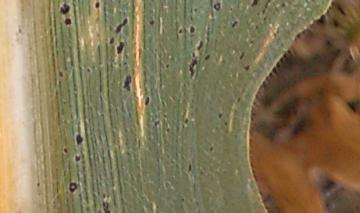tarspot: (114, 17, 129, 34), (187, 58, 198, 79), (58, 1, 73, 16), (122, 75, 132, 92), (261, 1, 272, 16), (100, 199, 111, 213), (115, 41, 125, 55), (67, 181, 78, 193), (74, 132, 84, 145), (196, 39, 203, 52), (212, 2, 222, 11), (152, 119, 161, 129), (15, 24, 23, 35), (186, 161, 192, 175), (61, 146, 70, 155), (63, 17, 72, 26), (230, 20, 239, 29), (279, 1, 288, 10), (73, 153, 81, 163), (57, 69, 65, 79), (241, 64, 251, 72), (238, 50, 245, 61), (203, 54, 211, 62), (108, 36, 115, 45), (250, 1, 259, 8), (235, 95, 242, 104), (93, 1, 100, 9), (147, 19, 155, 26), (84, 67, 91, 75), (183, 117, 190, 125), (164, 126, 171, 134), (179, 196, 186, 204), (255, 10, 262, 18), (189, 25, 195, 34), (144, 96, 149, 106), (192, 6, 199, 13), (216, 112, 223, 119), (161, 112, 168, 119), (116, 61, 123, 68), (122, 59, 128, 67), (35, 181, 41, 188), (177, 28, 183, 35), (164, 63, 170, 70), (208, 145, 214, 152), (254, 24, 260, 31), (248, 38, 254, 45), (101, 192, 106, 200), (191, 50, 196, 58), (227, 6, 233, 12), (223, 120, 228, 127)
